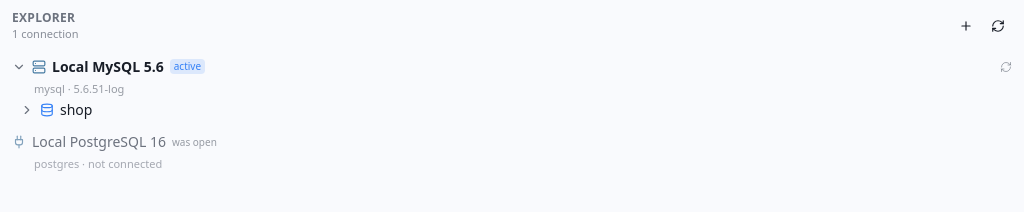
Test case: a remembered connection that is not open is offered, and one click reopens it
Step 1. Click the button "Local PostgreSQL 16 was open" → (99, 142), box 6,128 -> 1014,156
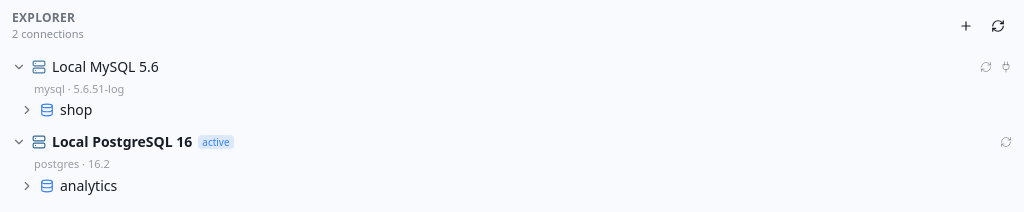
Expected: the text "analytics" is shown, 60,176 -> 117,196
